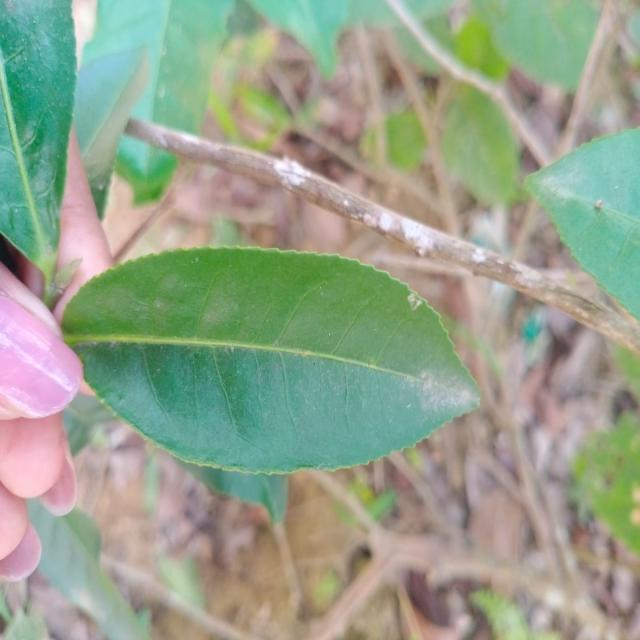Category D(7+ days, Not for Tea): (46, 226, 510, 508)
